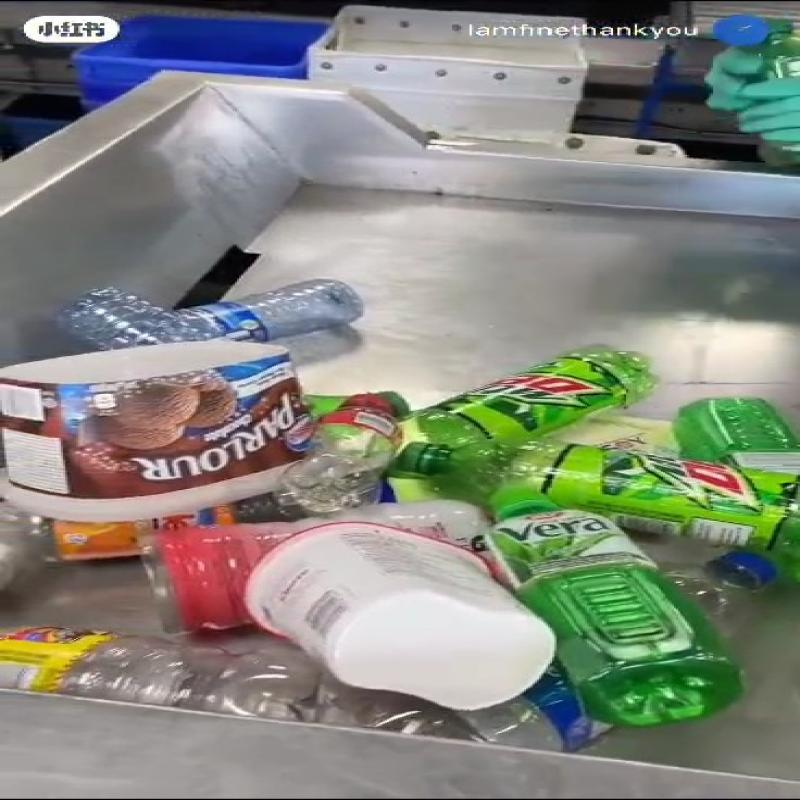botella: (469, 485, 737, 724), (405, 427, 800, 573), (0, 614, 335, 724), (404, 342, 657, 462), (116, 528, 305, 622), (275, 391, 411, 512), (19, 504, 296, 556), (180, 277, 373, 344), (47, 284, 214, 352), (677, 396, 800, 477)
